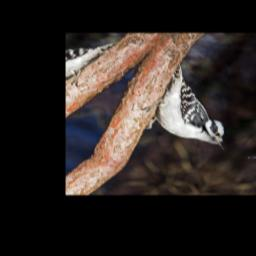Woodpecker: (126, 64, 256, 157)
